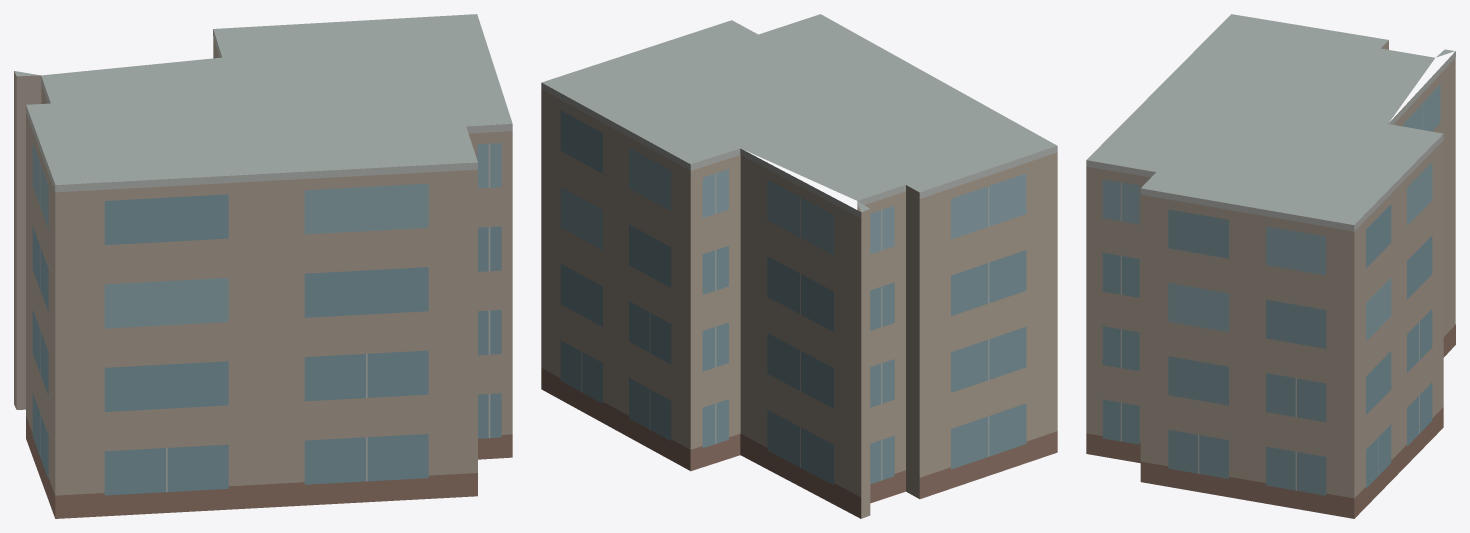
The model's file is survey-upis-32679337.glb.
The picture shows the model from 3 angles, left to right: view 1: azimuth 30°, elevation 25°; view 2: azimuth 150°, elevation 25°; view 3: azimuth 270°, elevation 25°; orthographic projection. The views are drawn at different scales.
Visible parts, largest first — view 1: survey-upis-32679337.tmp; view 2: survey-upis-32679337.tmp; view 3: survey-upis-32679337.tmp.
Part boxes in pixels (x1,y1,x2,y2): survey-upis-32679337.tmp: (14,14,512,518); survey-upis-32679337.tmp: (541,14,1057,518); survey-upis-32679337.tmp: (1086,14,1455,518).
Size of the model in its own units: 17.43 by 11.3 by 12.89.
